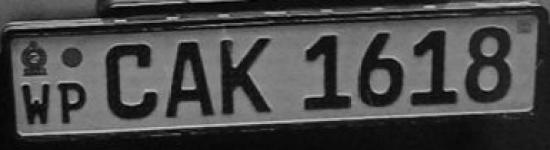1: (290, 27, 356, 113)
6: (407, 22, 463, 109), (354, 26, 407, 112)
8: (465, 20, 519, 109)
A: (160, 37, 216, 123)
C: (100, 40, 159, 125)
K: (216, 35, 276, 120)
P: (58, 75, 91, 129)
W: (16, 75, 54, 128)
